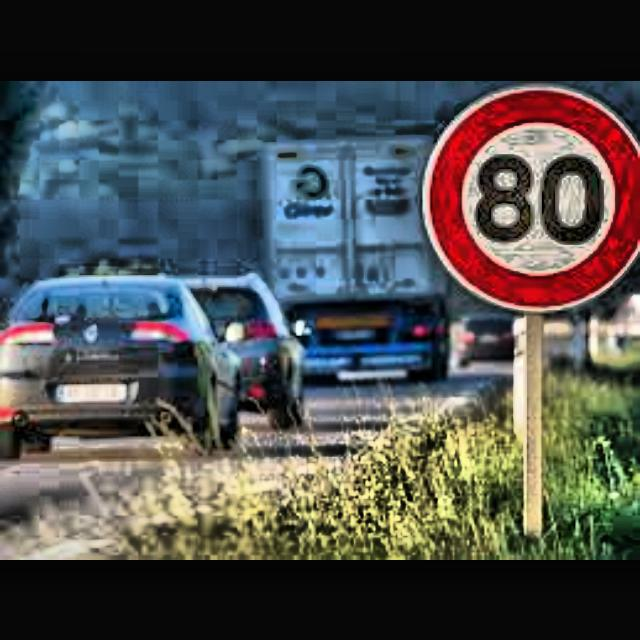speed_80: (420, 85, 640, 307)
